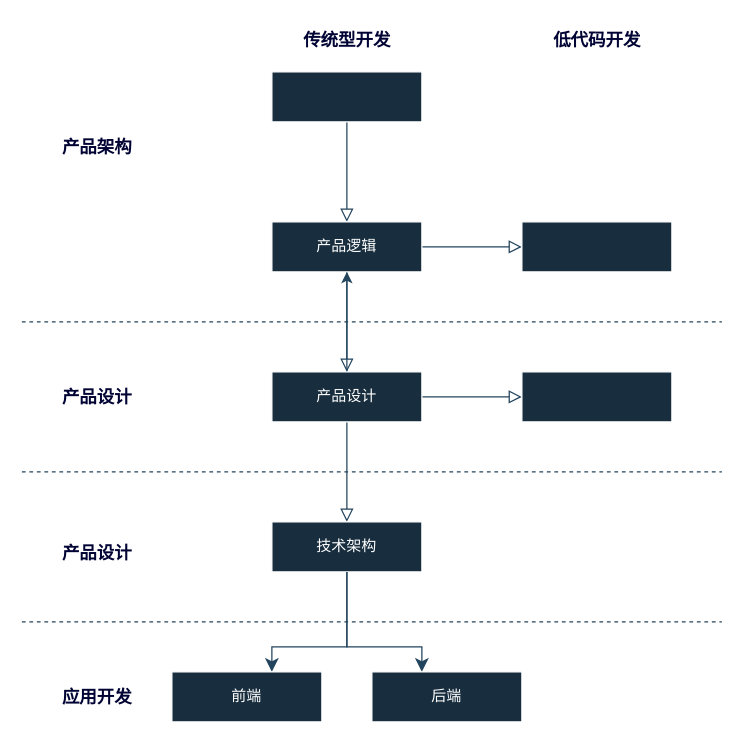
Image size: 745x744. Some labels were removed from this diagram. Here are the shapes that lost their labels. From the top down, the centre of each, then its label:
At point 346,96: "概念架构".
At point 596,246: "通用配置".
At point 596,396: "Replace Bulb".
